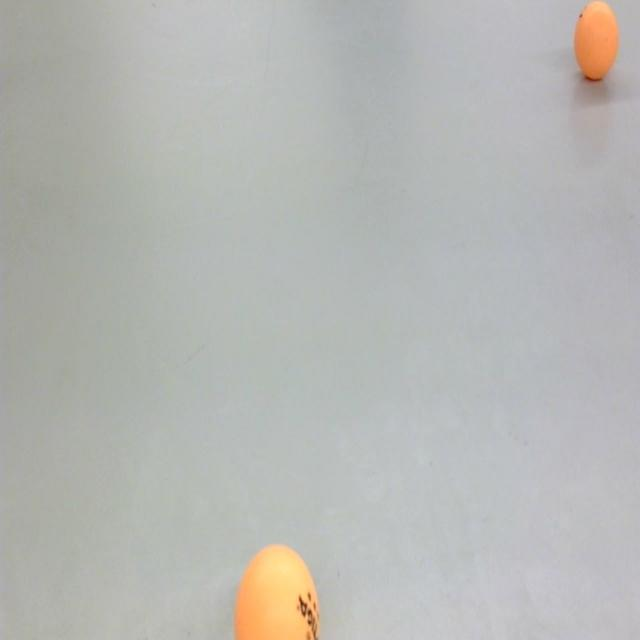ball: (234, 540, 324, 640), (572, 0, 620, 84)
